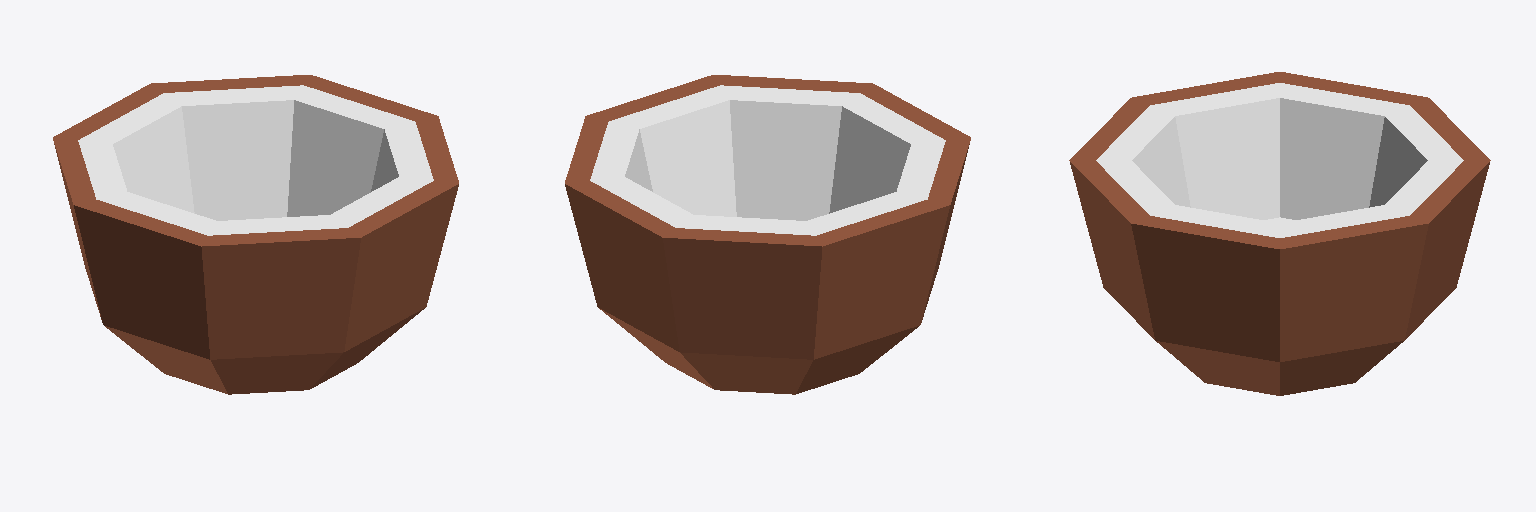
Rendered from coconutHalf.obj.
3 renders of one model, left to right at view 1: azimuth 30°, elevation 25°; view 2: azimuth 150°, elevation 25°; view 3: azimuth 270°, elevation 25°, orthographic.
Parts seen in each view (by area): view 1: coconutHalf; view 2: coconutHalf; view 3: coconutHalf.
Boxes of the visible parts, <box> form: coconutHalf: <box>53,75,458,394</box>; coconutHalf: <box>565,75,970,394</box>; coconutHalf: <box>1069,72,1490,395</box>.
Bounding box in the file's own units: 0.2484 × 0.1242 × 0.2484.